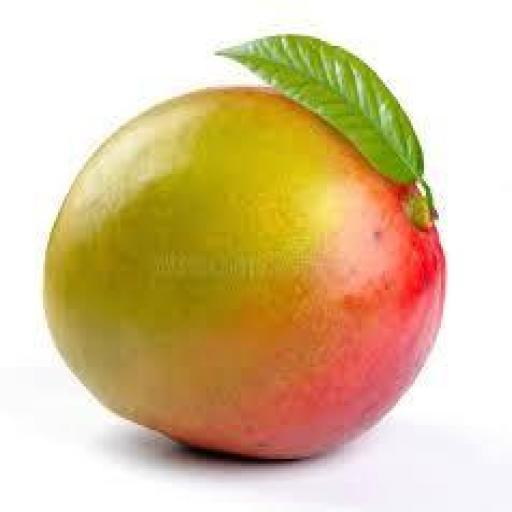apple: (46, 87, 445, 458)
